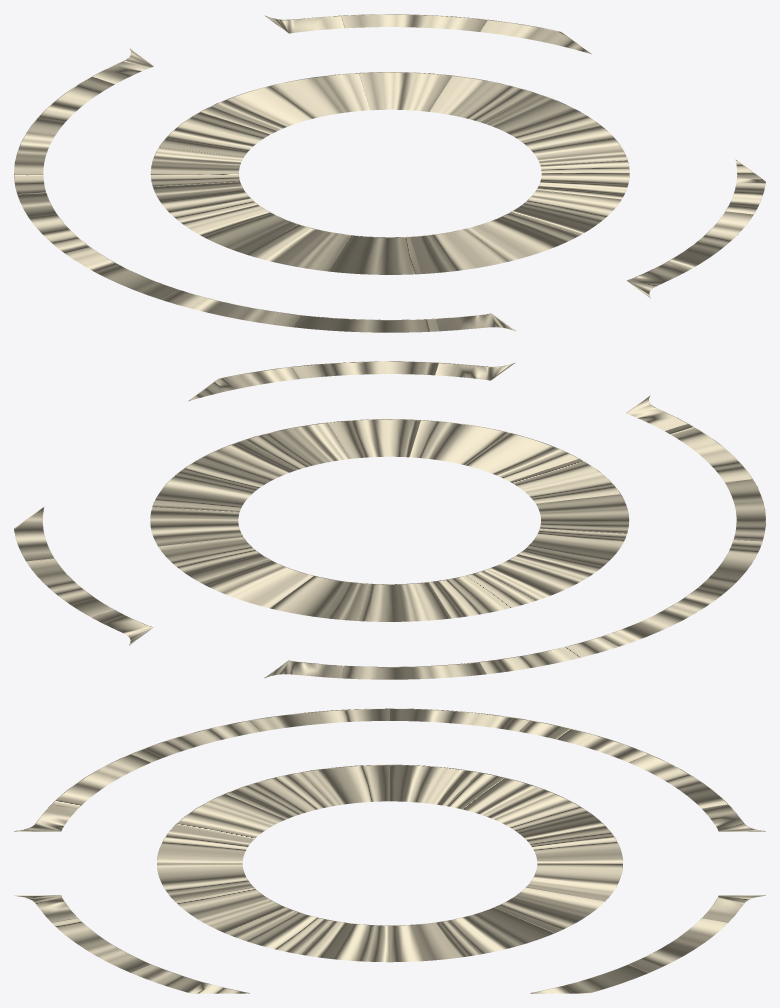
File: greencircle_int_floor_glass_a.glb
The picture shows the model from 3 angles, top to bottom: view 1: azimuth 30°, elevation 25°; view 2: azimuth 150°, elevation 25°; view 3: azimuth 270°, elevation 25°; orthographic projection. The views are drawn at different scales.
Bounding box in the file's own units: 19.72 × 0.0202 × 22.01.
